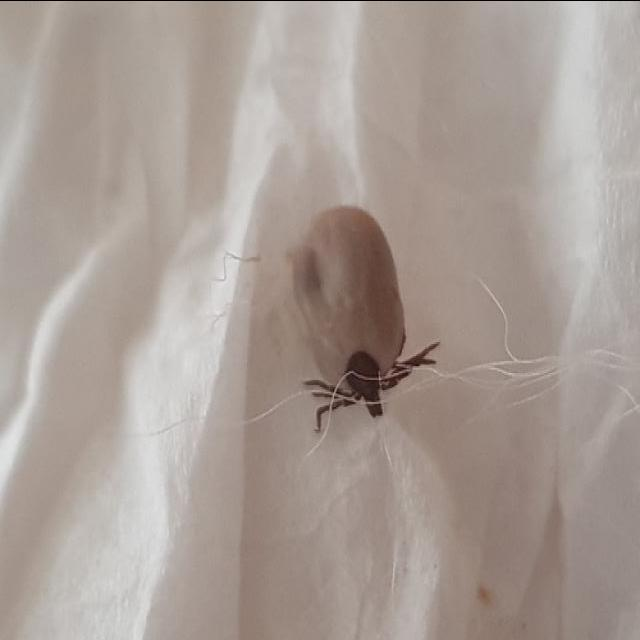Ixodes Ricinus-F-Fed: (289, 201, 438, 437)
